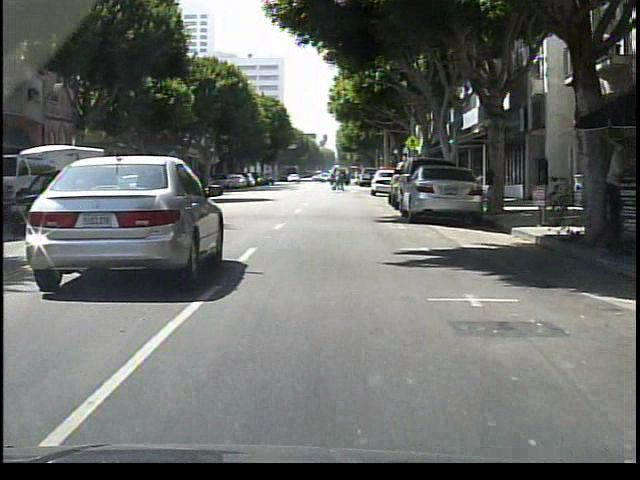person: (596, 135, 640, 242), (331, 168, 347, 193)
